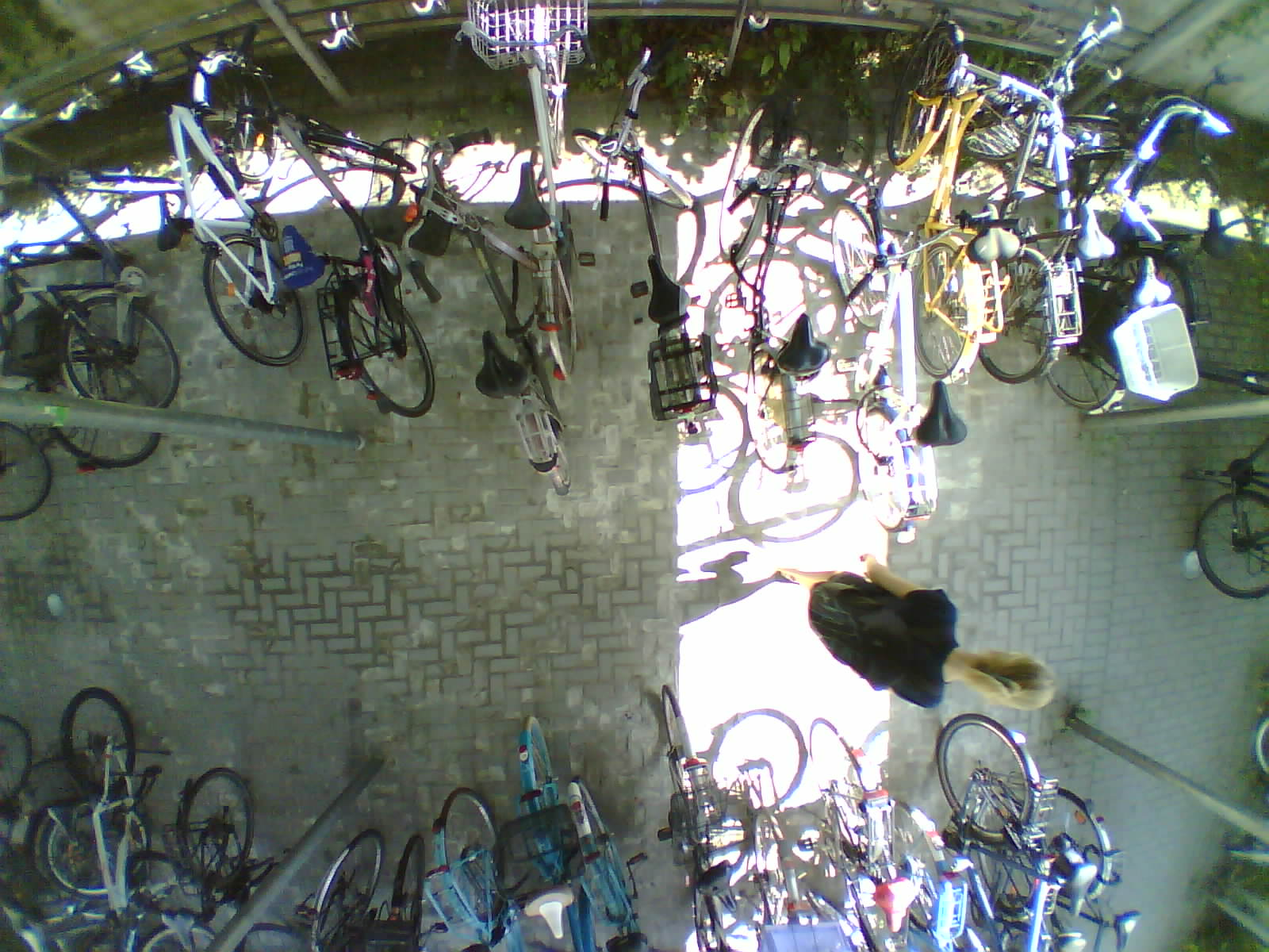bicylce: (573, 55, 710, 440), (405, 186, 570, 496), (287, 102, 441, 421), (707, 74, 823, 475), (877, 13, 994, 387), (953, 64, 1074, 386), (176, 39, 285, 379), (819, 209, 932, 529), (36, 170, 180, 417), (943, 718, 1082, 952), (1048, 136, 1163, 411), (798, 719, 922, 952), (499, 38, 583, 380), (656, 688, 751, 951), (59, 688, 143, 952), (513, 715, 596, 952), (1196, 363, 1269, 596)
saddle: (497, 157, 563, 234), (271, 218, 333, 297), (464, 328, 531, 400), (863, 869, 930, 936), (958, 194, 1017, 270), (916, 379, 975, 454), (777, 304, 829, 377), (641, 254, 691, 324), (521, 882, 577, 944), (1130, 252, 1178, 318), (699, 858, 740, 913), (1076, 196, 1108, 264), (154, 190, 186, 255), (155, 909, 199, 950), (1063, 863, 1101, 910), (0, 272, 27, 316), (1115, 905, 1140, 952), (51, 798, 78, 841)
